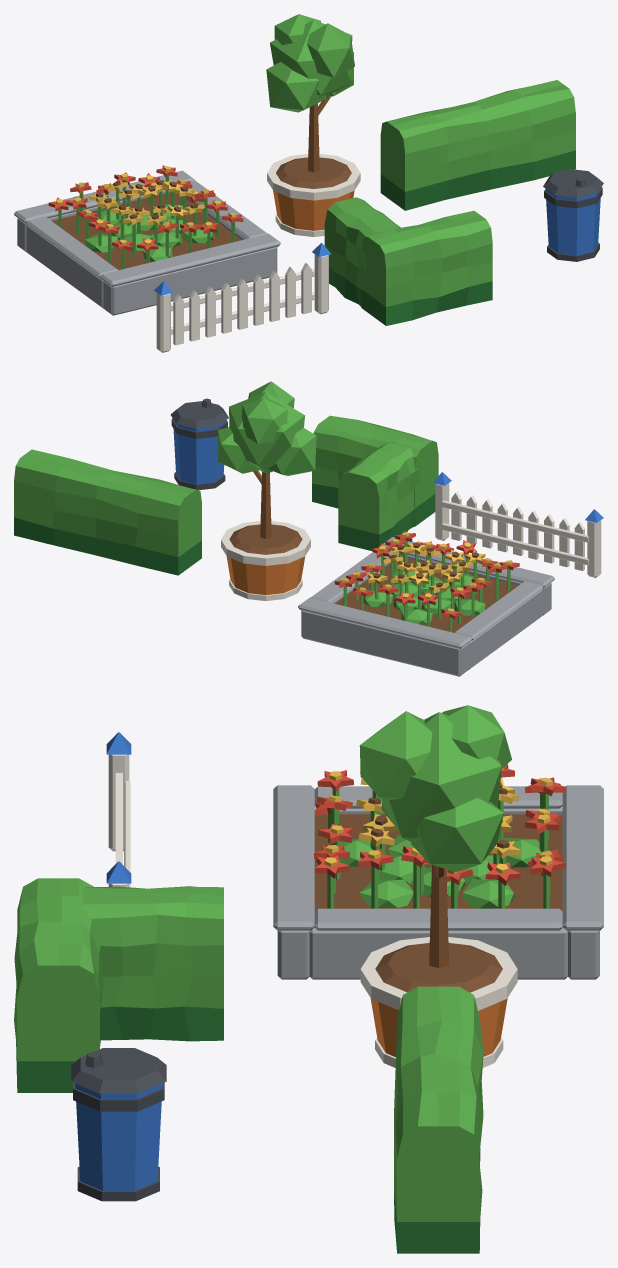
File: town-flower-bed-set.glb
3 views of the same model, one above another, from view 1: azimuth 30°, elevation 25°; view 2: azimuth 150°, elevation 25°; view 3: azimuth 270°, elevation 25° (orthographic). The views are drawn at different scales.
Parts seen in each view (by area): view 1: FlowerBed_Square, Hedge_Straight, Hedge_Corner, Planter_Tree, Fence_Low, Bin_Park, Lid; view 2: FlowerBed_Square, Hedge_Straight, Planter_Tree, Hedge_Corner, Fence_Low, Bin_Park, Lid; view 3: FlowerBed_Square, Hedge_Corner, Planter_Tree, Hedge_Straight, Bin_Park, Lid, Fence_Low.
Part boxes in pixels (x1,y1,x2,y2): FlowerBed_Square: (14,165,280,315); Hedge_Straight: (380,80,575,210); Hedge_Corner: (324,197,492,325); Planter_Tree: (266,14,360,236); Fence_Low: (154,243,331,352); Bin_Park: (544,187,602,261); Lid: (543,169,603,197); FlowerBed_Square: (298,531,554,676); Hedge_Straight: (14,449,201,575); Planter_Tree: (217,381,316,600); Hedge_Corner: (312,415,438,550); Fence_Low: (433,472,603,577); Bin_Park: (171,418,227,490); Lid: (170,398,228,428); FlowerBed_Square: (273,764,603,979); Hedge_Corner: (14,878,223,1092); Planter_Tree: (359,705,517,1067); Hedge_Straight: (394,986,483,1253); Bin_Park: (73,1082,164,1201); Lid: (71,1048,166,1093); Fence_Low: (106,732,131,887).
Size of the model in its own units: 23.5 by 9.13 by 14.28.
